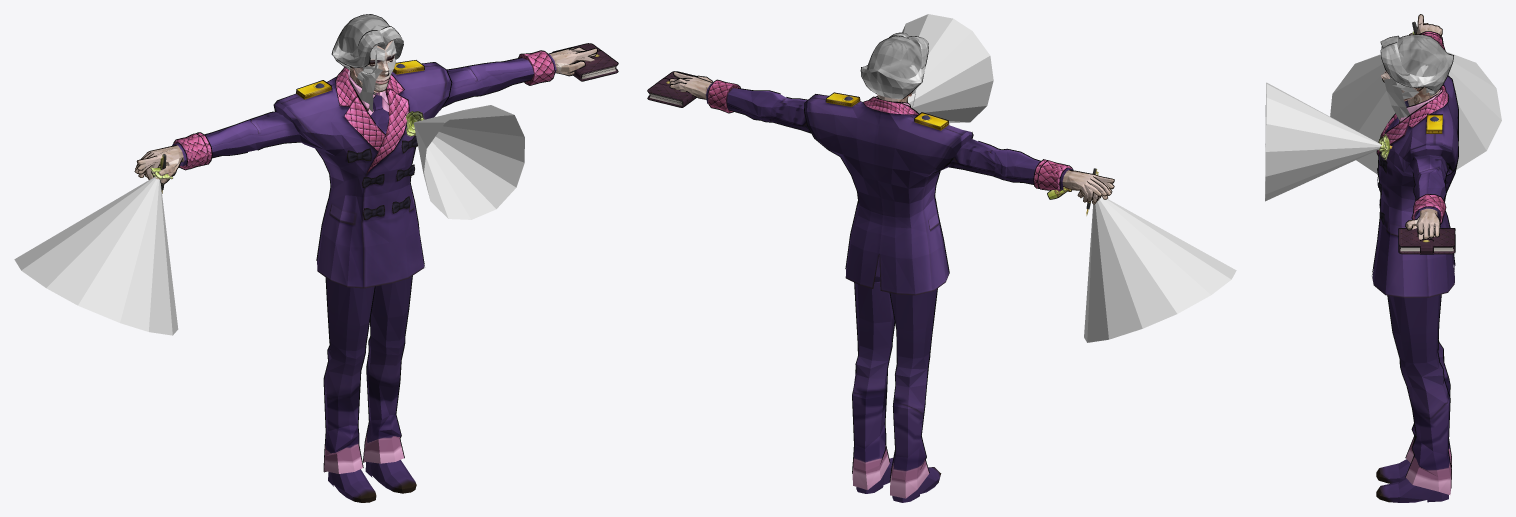
File: lbelle.glb
3 renders of one model, left to right at view 1: azimuth 30°, elevation 25°; view 2: azimuth 150°, elevation 25°; view 3: azimuth 270°, elevation 25°, orthographic. The views are drawn at different scales.
Parts seen in each view (by area): view 1: body, pants, cone thing, flower cone thing, long_arms, check.001, hair, body_outline, pants_outline, book, arms_outline, armphone.001 (+1 smaller); view 2: body, pants, cone thing, flower cone thing, long_arms, hair, check.001, pants_outline, body_outline, book, arms_outline, armphone.001; view 3: pants, body, cone thing, flower cone thing, hair, long_arms, check.001, book, body_outline, pants_outline, imported_object_35, face thing (+3 smaller).
Boxes of the visible parts, x1=… form: body: x1=277, y1=62, x2=448, y2=288; pants: x1=324, y1=276, x2=416, y2=502; cone thing: x1=14, y1=177, x2=178, y2=335; flower cone thing: x1=413, y1=105, x2=524, y2=219; long_arms: x1=172, y1=54, x2=556, y2=166; check.001: x1=181, y1=51, x2=554, y2=172; hair: x1=332, y1=14, x2=403, y2=70; body_outline: x1=276, y1=14, x2=434, y2=266; pants_outline: x1=323, y1=275, x2=412, y2=472; book: x1=573, y1=43, x2=617, y2=80; arms_outline: x1=181, y1=50, x2=555, y2=169; armphone.001: x1=296, y1=60, x2=424, y2=99; body: x1=807, y1=94, x2=970, y2=295; pants: x1=852, y1=255, x2=941, y2=502; cone thing: x1=1084, y1=196, x2=1236, y2=342; flower cone thing: x1=902, y1=14, x2=993, y2=123; long_arms: x1=706, y1=82, x2=1073, y2=190; hair: x1=861, y1=33, x2=928, y2=99; check.001: x1=708, y1=80, x2=1064, y2=188; pants_outline: x1=852, y1=282, x2=937, y2=481; body_outline: x1=819, y1=32, x2=949, y2=273; book: x1=648, y1=72, x2=695, y2=107; arms_outline: x1=707, y1=79, x2=1063, y2=190; armphone.001: x1=826, y1=93, x2=948, y2=130; pants: x1=1376, y1=294, x2=1451, y2=502; body: x1=1372, y1=76, x2=1457, y2=297; cone thing: x1=1330, y1=51, x2=1501, y2=174; flower cone thing: x1=1265, y1=82, x2=1382, y2=201; hair: x1=1381, y1=35, x2=1453, y2=95; long_arms: x1=1403, y1=145, x2=1455, y2=219; check.001: x1=1377, y1=34, x2=1448, y2=223; book: x1=1399, y1=228, x2=1454, y2=253; body_outline: x1=1372, y1=34, x2=1458, y2=274; pants_outline: x1=1387, y1=294, x2=1451, y2=488; imported_object_35: x1=1406, y1=210, x2=1439, y2=238; face thing: x1=1384, y1=79, x2=1410, y2=120.
Size of the model in its own units: 0.7426 by 0.568 by 0.2704.
Materials: 9 (8 with a texture image).
